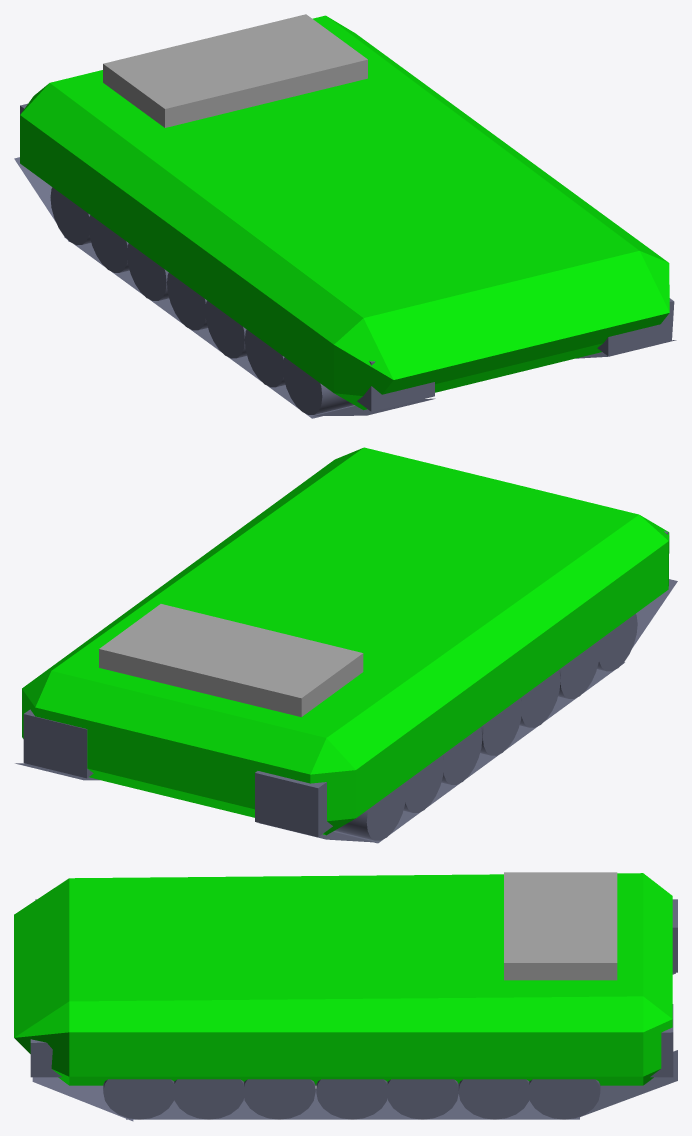
The model's file is new_Body.fbx.
3 renders of one model, top to bottom at view 1: azimuth 30°, elevation 25°; view 2: azimuth 150°, elevation 25°; view 3: azimuth 270°, elevation 25°, orthographic. The views are drawn at different scales.
Visible parts, largest first — view 1: new_Tank:new_Tank:new_Tank:Body1; view 2: new_Tank:new_Tank:new_Tank:Body1; view 3: new_Tank:new_Tank:new_Tank:Body1.
Boxes of the visible parts, x1=… form: new_Tank:new_Tank:new_Tank:Body1: x1=14, y1=14, x2=676, y2=418; new_Tank:new_Tank:new_Tank:Body1: x1=15, y1=447, x2=677, y2=843; new_Tank:new_Tank:new_Tank:Body1: x1=14, y1=872, x2=677, y2=1121.
Size of the model in its own units: 803 by 338 by 1505.
